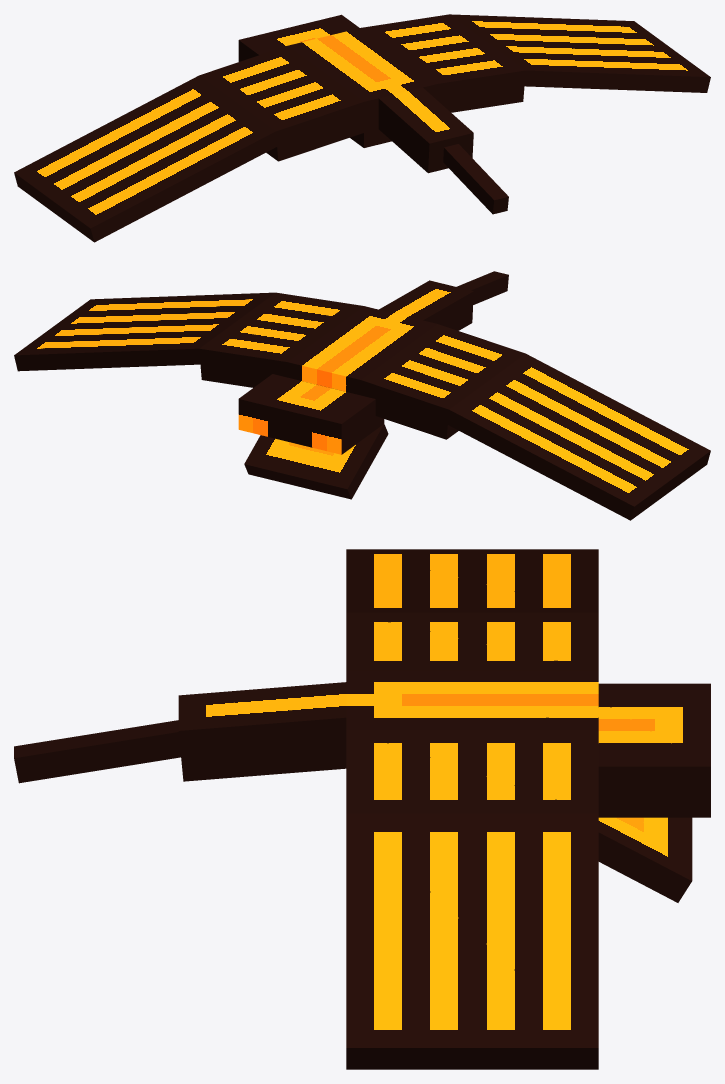
The model's file is phantom_nether_texture.glb.
3 views of the same model, one above another, from view 1: azimuth 30°, elevation 25°; view 2: azimuth 150°, elevation 25°; view 3: azimuth 270°, elevation 25° (orthographic). The views are drawn at different scales.
Visible parts, largest first — view 1: wingtip0_2, wingtip1_6, wing0_1, wing1_5, body_0, tail_12, head_9, tailtip_13; view 2: wingtip0_2, wingtip1_6, wing0_1, wing1_5, head_9, body_0, cube_10, tail_12, tailtip_13; view 3: wingtip1_6, wing1_5, wingtip0_2, head_9, body_0, wing0_1, tail_12, cube_10, tailtip_13.
Boxes of the visible parts, <box> form: wingtip0_2: <box>14,75,277,242</box>; wingtip1_6: <box>449,14,710,92</box>; wing0_1: <box>199,46,365,161</box>; wing1_5: <box>361,14,525,112</box>; body_0: <box>287,28,437,147</box>; tail_12: <box>378,87,473,173</box>; head_9: <box>238,14,359,61</box>; tailtip_13: <box>443,144,508,214</box>; wingtip0_2: <box>445,353,710,520</box>; wingtip1_6: <box>14,292,274,371</box>; wing0_1: <box>360,324,525,439</box>; wing1_5: <box>199,292,363,387</box>; head_9: <box>238,374,384,454</box>; body_0: <box>287,306,436,395</box>; cube_10: <box>244,424,388,499</box>; tail_12: <box>379,280,473,330</box>; tailtip_13: <box>456,271,508,304</box>; wingtip1_6: <box>346,813,598,1069</box>; wing1_5: <box>346,729,598,813</box>; wingtip0_2: <box>346,549,598,612</box>; head_9: <box>598,683,710,817</box>; body_0: <box>346,670,598,729</box>; wing0_1: <box>346,612,598,670</box>; tail_12: <box>178,682,346,781</box>; cube_10: <box>598,817,692,902</box>; tailtip_13: <box>14,720,180,783</box>.
Size of the model in its own units: 2.63 by 0.3979 by 1.55.
1 material, 1 textured.
